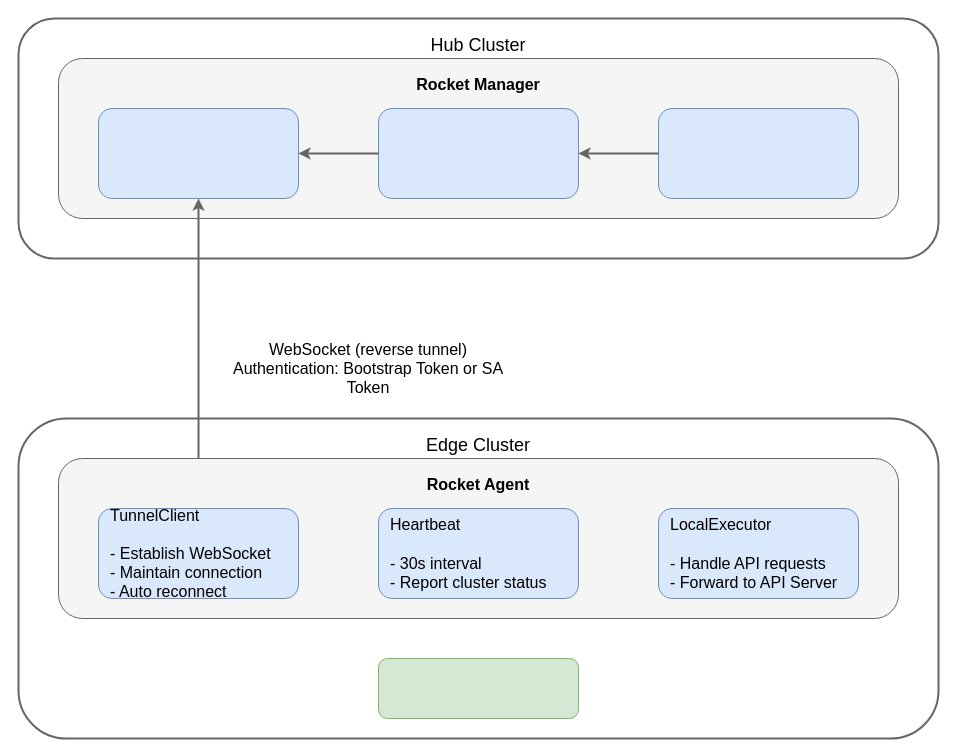
This 956x756 diagram has some shape labels left out. The centre of each missing label's shape, as x and y in pixels:
ClientManager Route requests based on mode: (478,153)
ClusterReconciler Watch clusters update status: (758,153)
Local API Server kubernetes.default.svc: (478,688)
TunnelServer WebSocket endpoint: /connect: (198,153)
